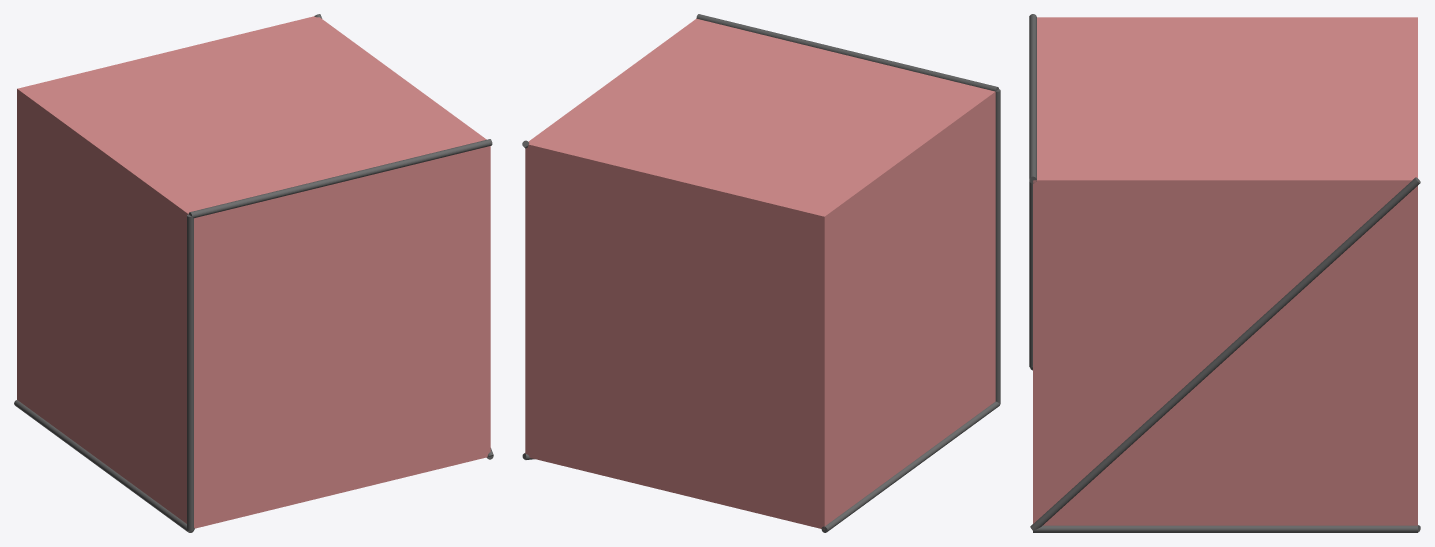
3 views of the same model, side by side, from view 1: azimuth 30°, elevation 25°; view 2: azimuth 150°, elevation 25°; view 3: azimuth 270°, elevation 25° (orthographic). The views are drawn at different scales.
Parts seen in each view (by area): view 1: world; view 2: world; view 3: world.
Part boxes in pixels (x1,y1,x2,y2): world: (14, 14, 493, 532); world: (522, 14, 1000, 532); world: (1029, 14, 1420, 532).
Size of the model in its own units: 2.04 by 2.04 by 2.03.
